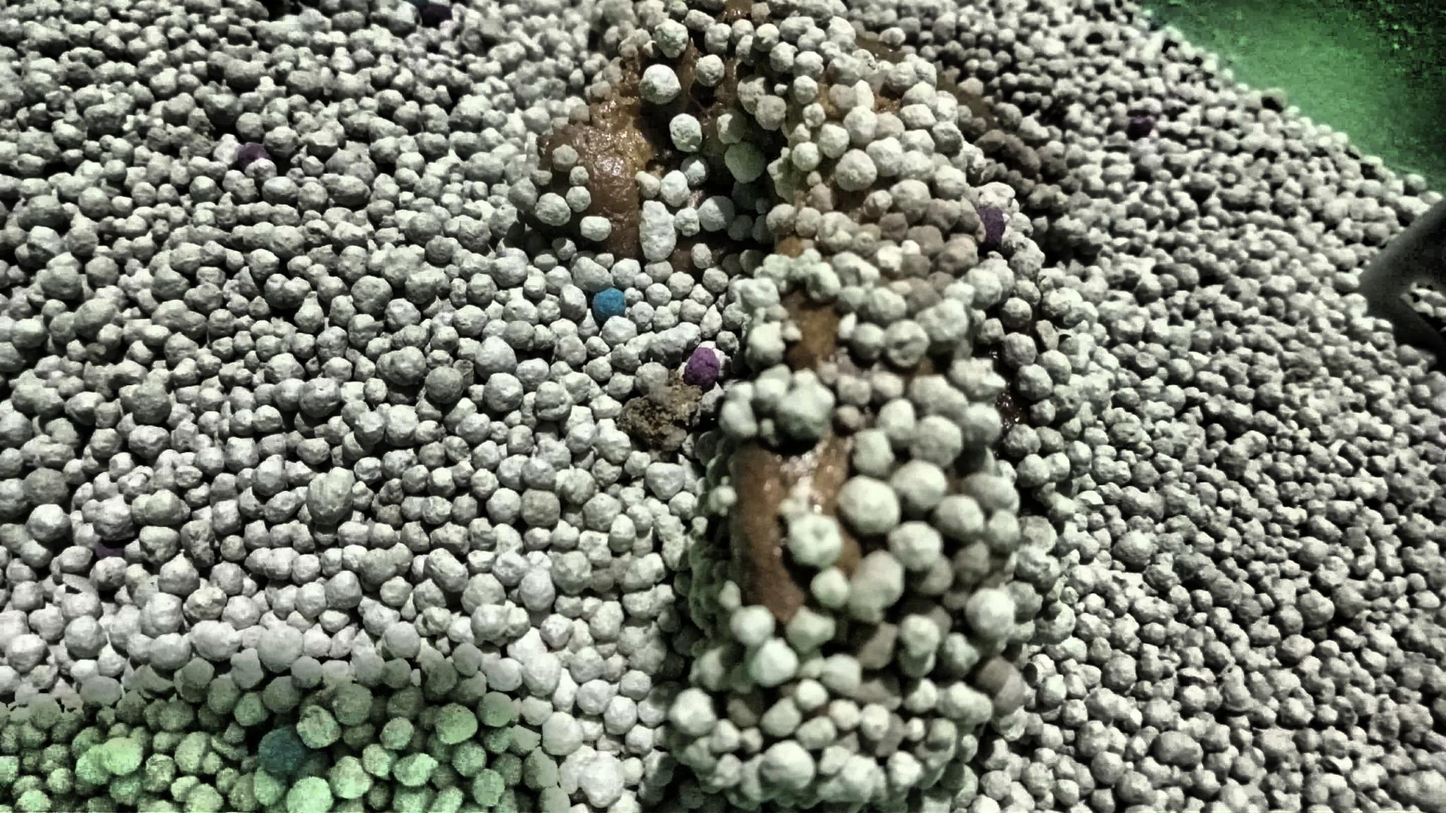litter_sand: (855, 2, 1445, 812)
poop: (541, 3, 1071, 809)
